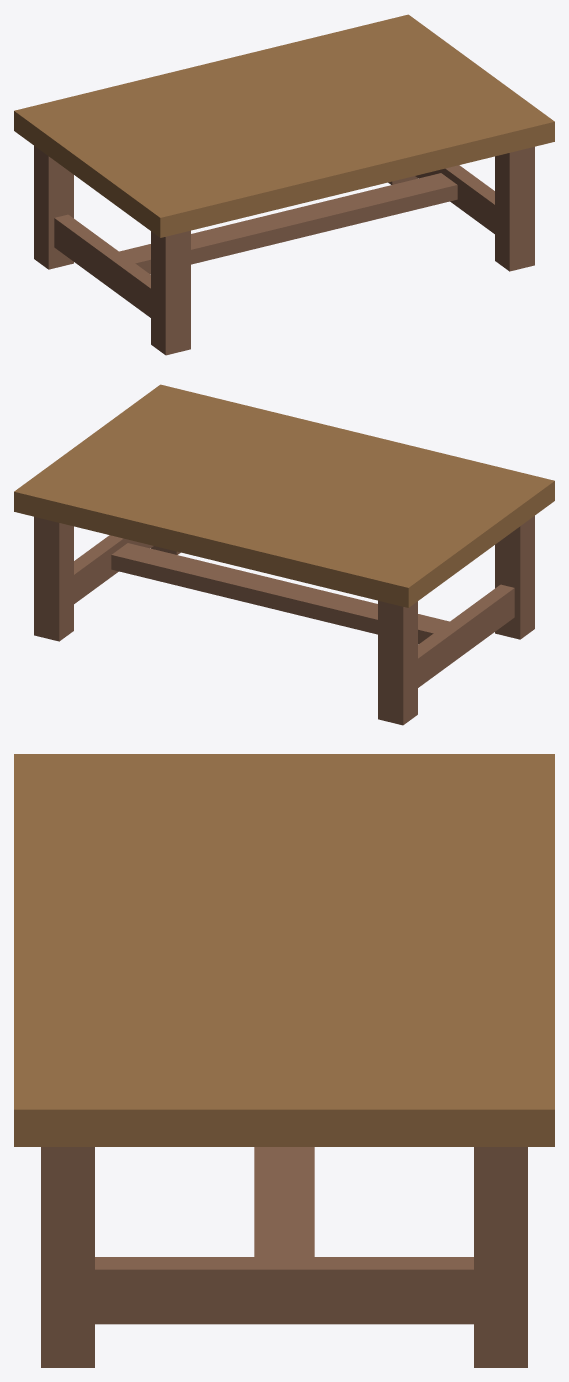
Rendered from Table8.fbx.
3 renders of one model, top to bottom at view 1: azimuth 30°, elevation 25°; view 2: azimuth 150°, elevation 25°; view 3: azimuth 270°, elevation 25°, orthographic. The views are drawn at different scales.
Visible parts, largest first — view 1: Cube; view 2: Cube; view 3: Cube.
Part boxes in pixels (x1,y1,x2,y2): Cube: [14, 14, 554, 355]; Cube: [14, 384, 554, 725]; Cube: [14, 754, 554, 1367].
Bounding box in the file's own units: 2.8 × 0.99 × 1.8.
